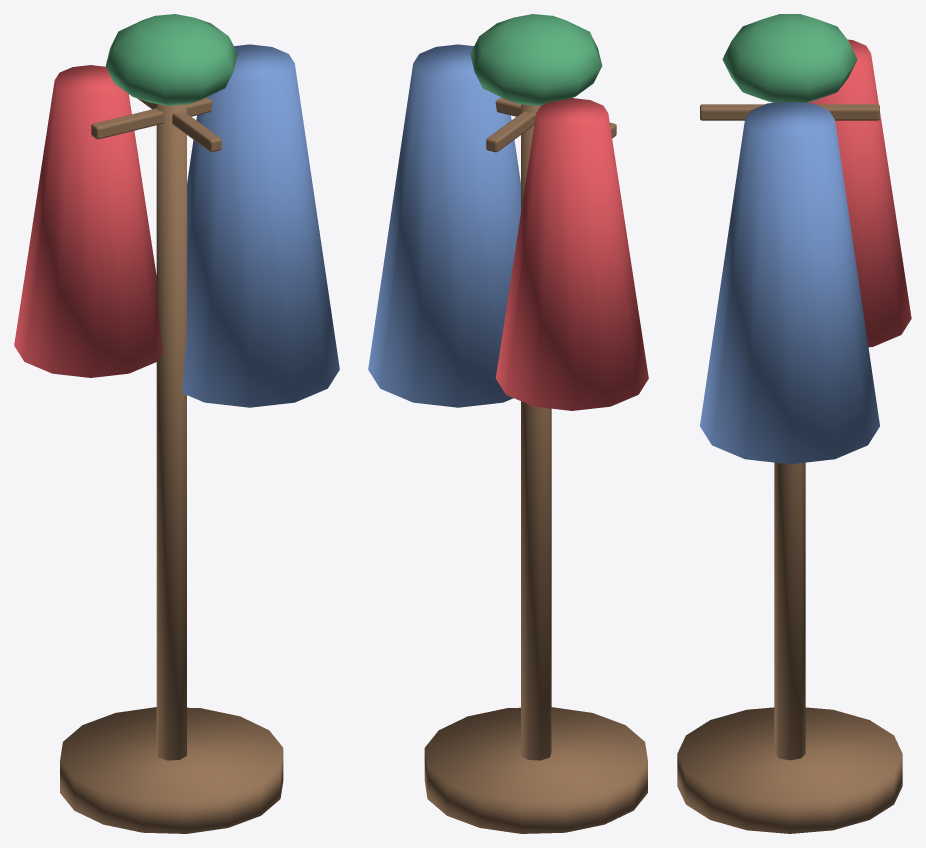
Rendered from CoatRack.fbx.
The picture shows the model from 3 angles, left to right: view 1: azimuth 30°, elevation 25°; view 2: azimuth 150°, elevation 25°; view 3: azimuth 270°, elevation 25°; orthographic projection.
Parts seen in each view (by area): view 1: CoatRack; view 2: CoatRack; view 3: CoatRack.
Part boxes in pixels (x1,y1,x2,y2): CoatRack: (14, 14, 339, 833); CoatRack: (368, 14, 648, 833); CoatRack: (677, 14, 911, 833).
Bounding box in the file's own units: 72 × 187 × 52.
